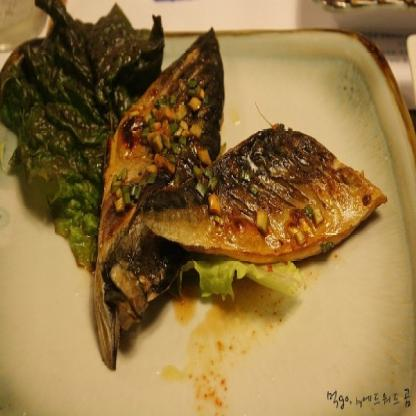Peixe: (86, 27, 394, 368)
